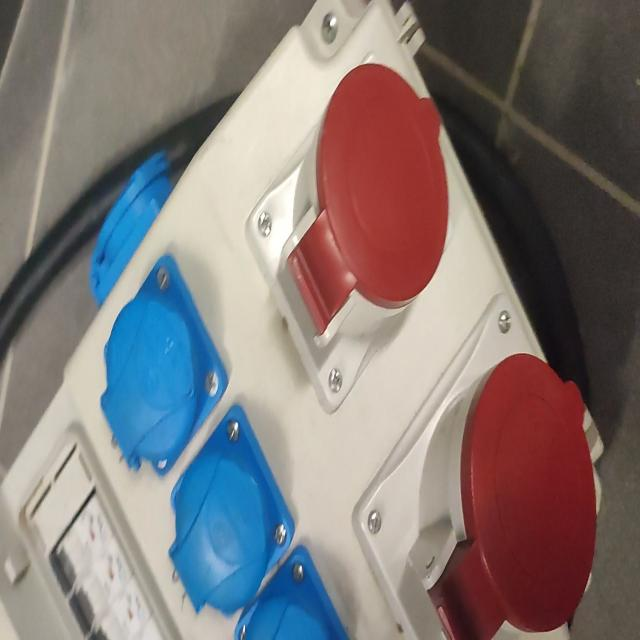400v socket: (351, 293, 595, 640), (246, 47, 454, 413)
house plug covered: (100, 256, 230, 474), (170, 406, 296, 622), (87, 152, 174, 305), (231, 545, 352, 640)
